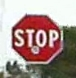stop: (10, 12, 63, 64)
